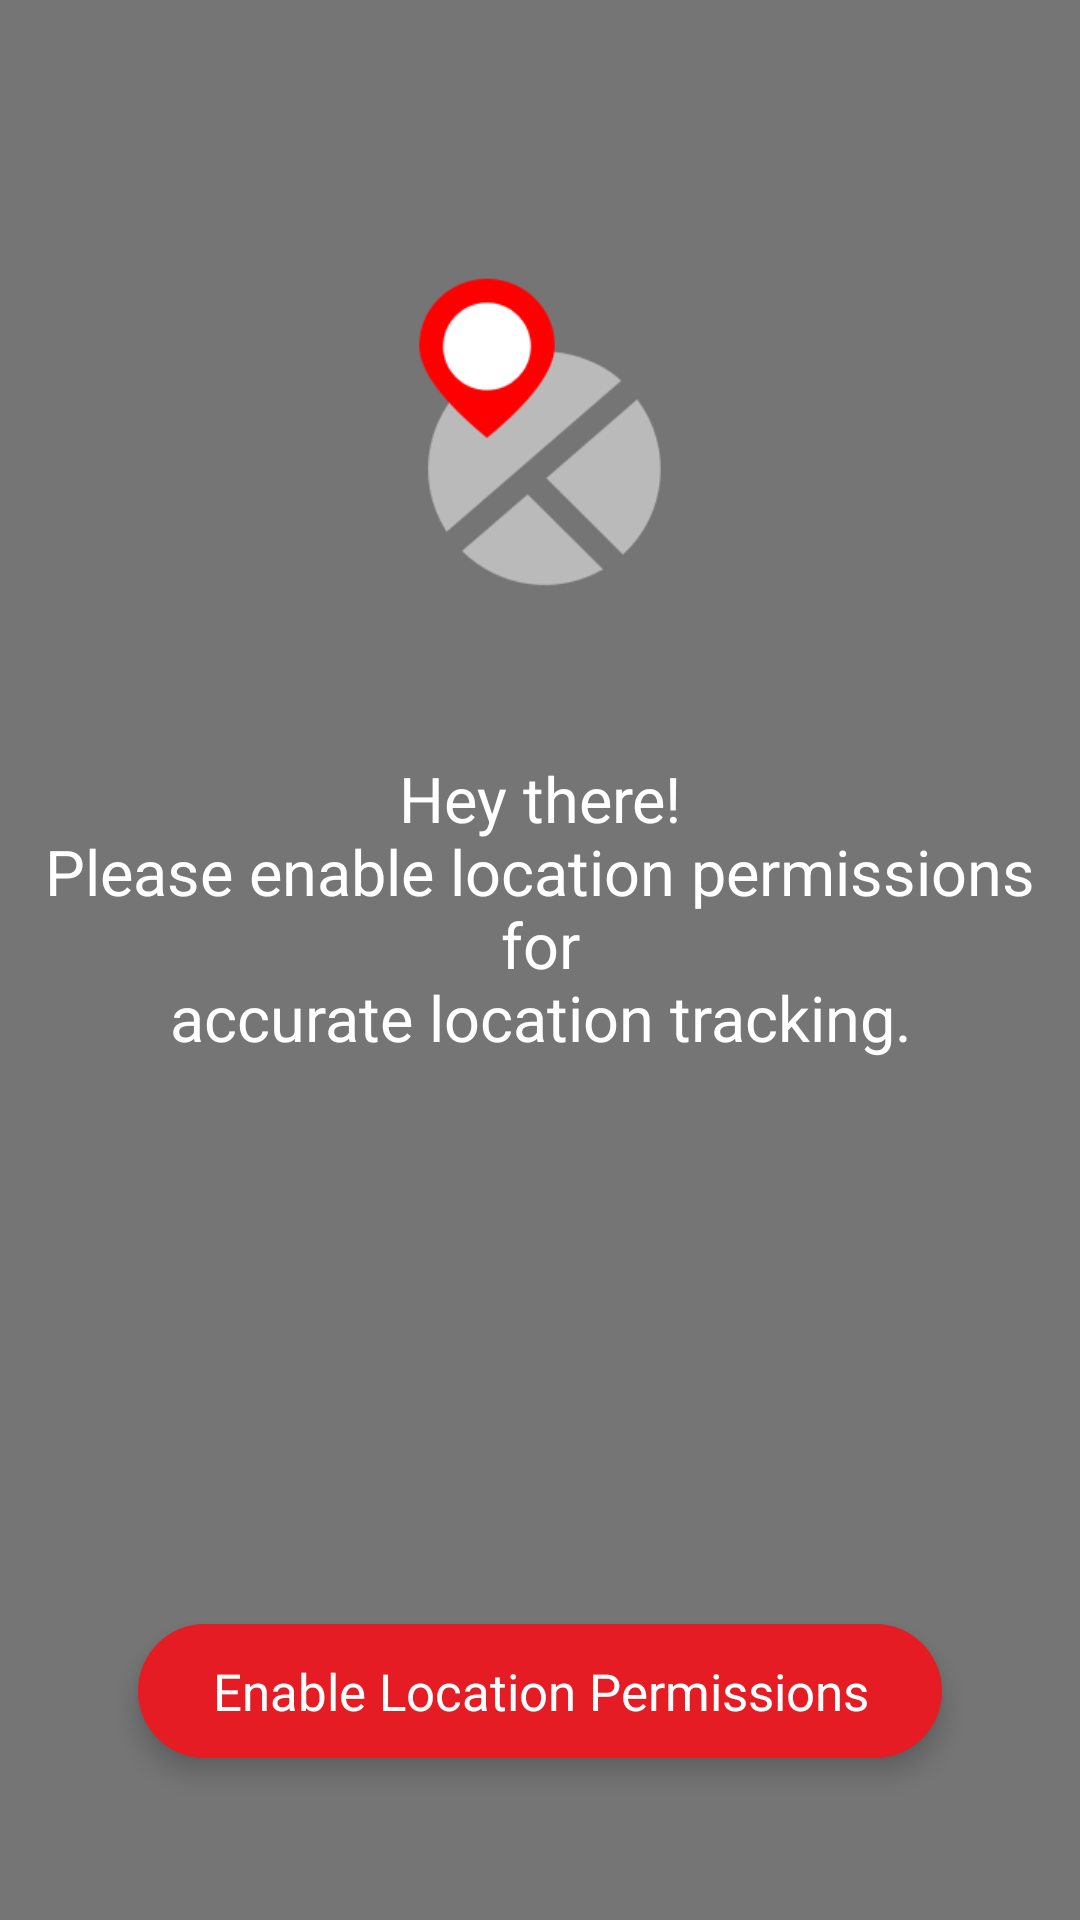

Screen size 1080px×1920px. Icon name, then its box in pixels as bbox=(x1, y1, x2, y2):
nearby: bbox=(419, 278, 661, 585)
